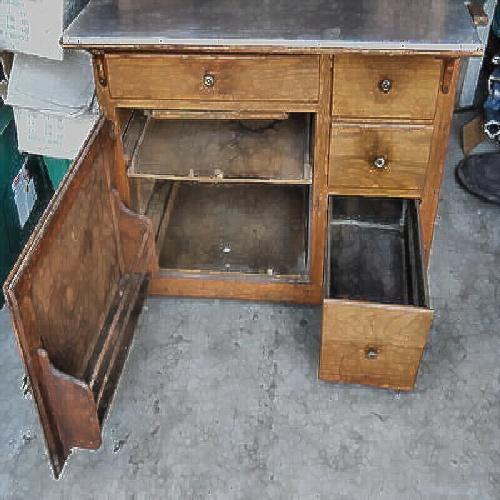cabinet: (56, 29, 456, 404)
